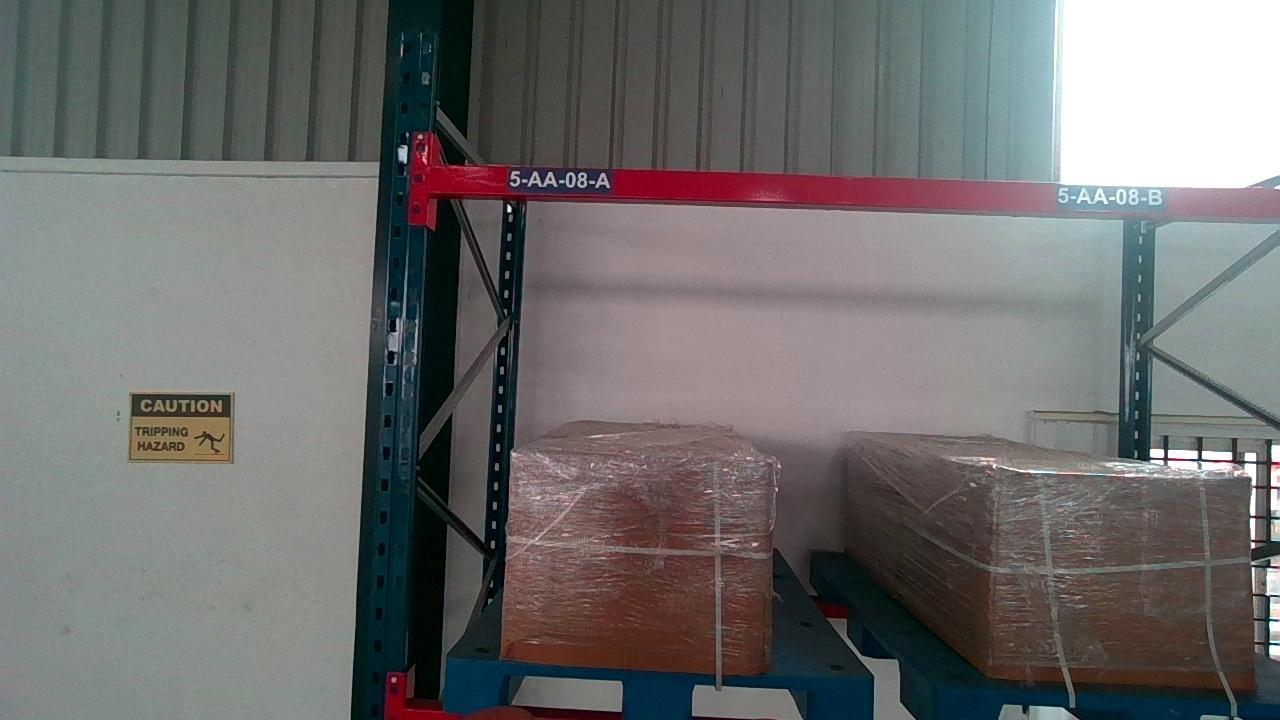h_rack: (425, 163, 1280, 220)
small_pallet: (442, 666, 869, 720), (944, 693, 1280, 720)
